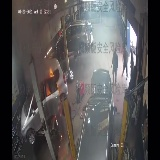fire: (46, 68, 60, 105)
